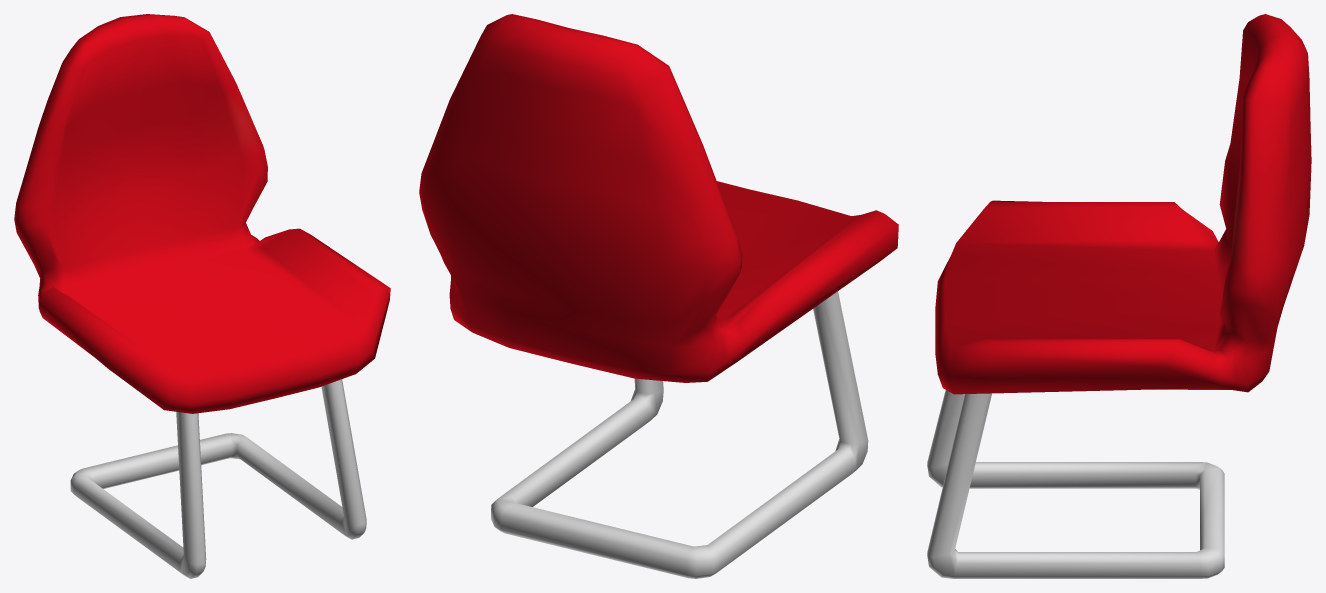
Rendered from Chair_T.fbx.
3 views of the same model, side by side, from view 1: azimuth 30°, elevation 25°; view 2: azimuth 150°, elevation 25°; view 3: azimuth 270°, elevation 25° (orthographic). The views are drawn at different scales.
Parts seen in each view (by area): view 1: Chair_v3_t; view 2: Chair_v3_t; view 3: Chair_v3_t.
Boxes of the visible parts, x1=… form: Chair_v3_t: x1=14, y1=14, x2=390, y2=578; Chair_v3_t: x1=419, y1=14, x2=898, y2=578; Chair_v3_t: x1=927, y1=14, x2=1311, y2=578.
Size of the model in its own units: 65.94 by 96.71 by 67.98.
